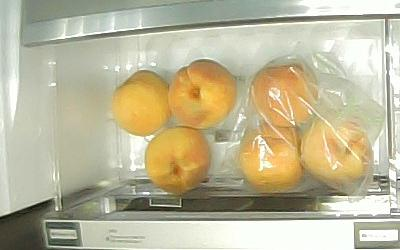peach: (168, 58, 236, 129), (144, 126, 211, 194), (110, 69, 170, 136)
peach_vinyl: (239, 120, 305, 191), (300, 117, 372, 182), (250, 64, 317, 127)
